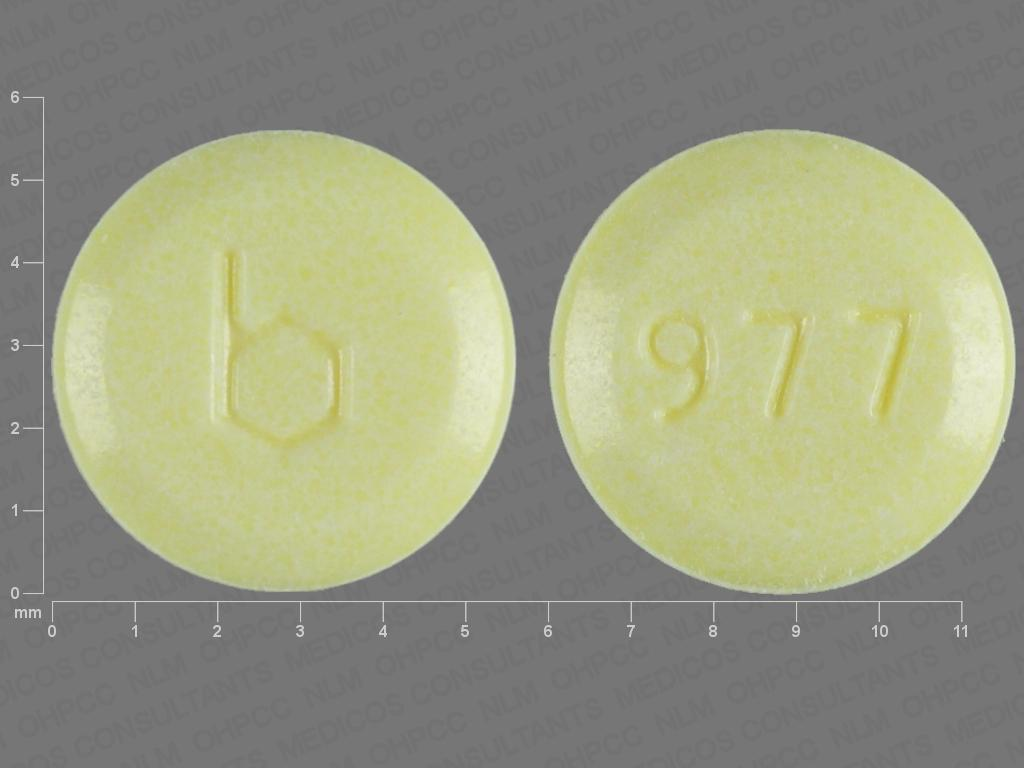Pill: (541, 120, 1024, 600), (47, 120, 526, 600)
